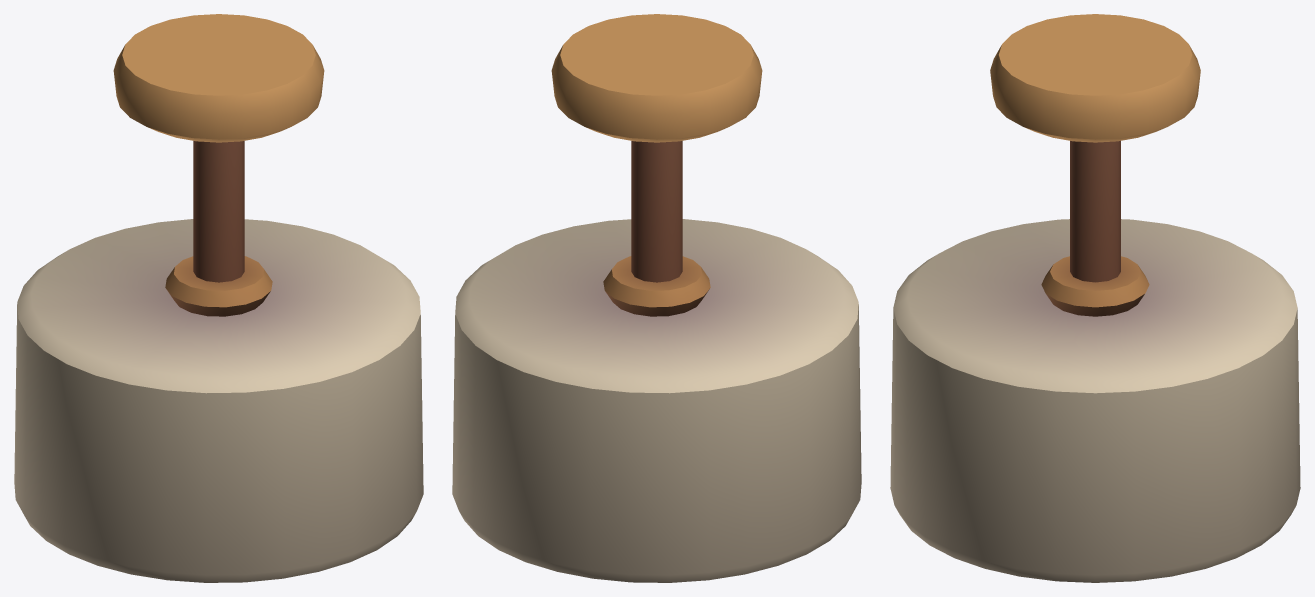
The model's file is lamp_classic.glb.
3 views of the same model, side by side, from view 1: azimuth 30°, elevation 25°; view 2: azimuth 150°, elevation 25°; view 3: azimuth 270°, elevation 25° (orthographic).
Visible parts, largest first — view 1: lamp_classic; view 2: lamp_classic; view 3: lamp_classic.
Boxes of the visible parts, x1,y1,x2,y2 form: lamp_classic: (14,14,423,582); lamp_classic: (452,14,861,582); lamp_classic: (890,14,1300,582).
Bounding box in the file's own units: 0.7201 × 0.86 × 0.7201.
